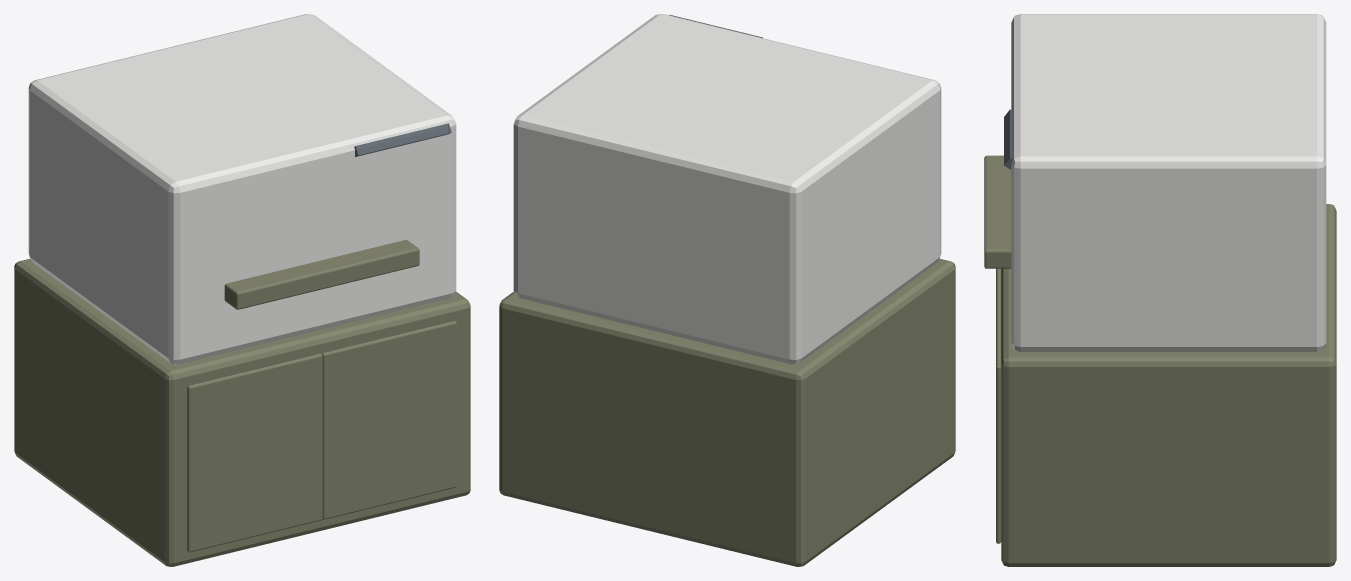
Rendered from print___utility_office_asset_library_59.glb.
3 renders of one model, left to right at view 1: azimuth 30°, elevation 25°; view 2: azimuth 150°, elevation 25°; view 3: azimuth 270°, elevation 25°, orthographic. The views are drawn at different scales.
Parts seen in each view (by area): view 1: Cube; view 2: Cube; view 3: Cube.
Part boxes in pixels (left/top/right/bottom): Cube: left=14, top=14, right=470, bottom=566; Cube: left=499, top=14, right=955, bottom=566; Cube: left=984, top=14, right=1336, bottom=566.
Size of the model in its own units: 0.72 by 0.8526 by 0.672.
